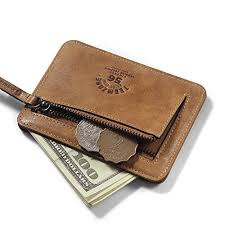monedero: (17, 40, 206, 183)
